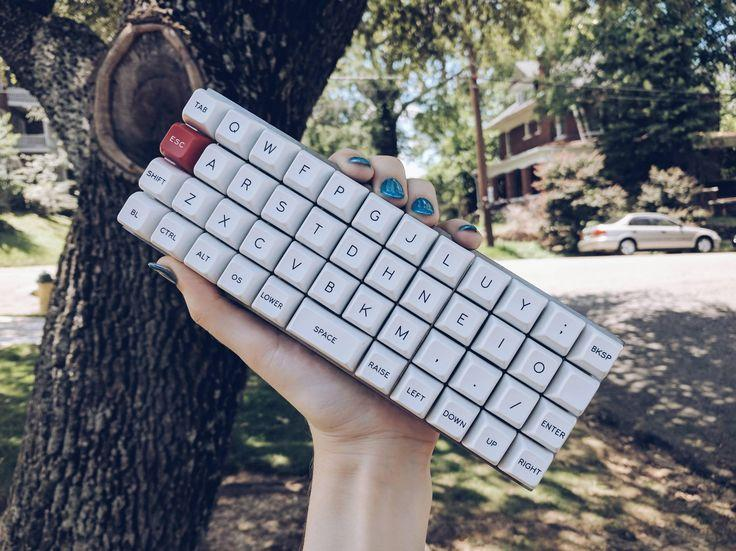keyboard: (116, 86, 625, 491)
